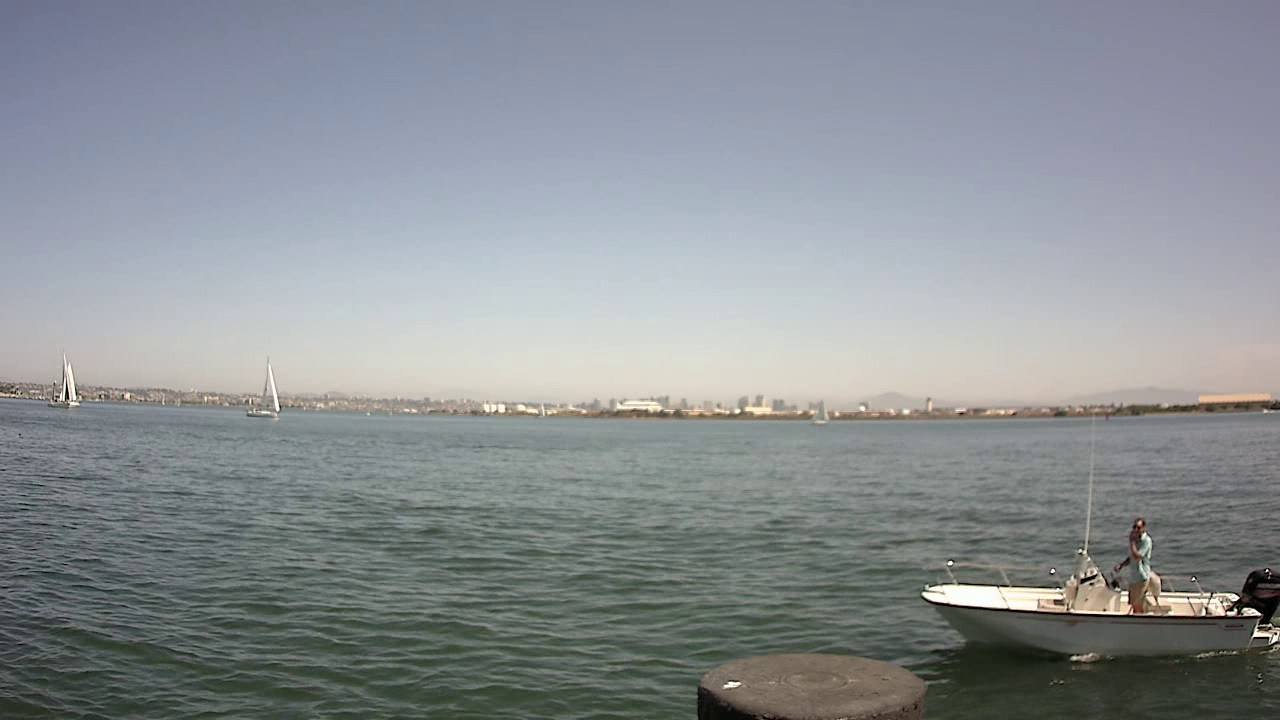target: (920, 517, 1280, 667)
